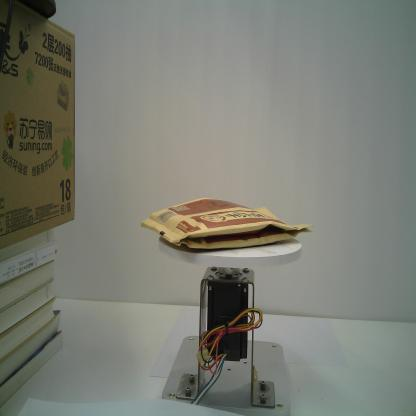Dried Food: (138, 196, 313, 252)
